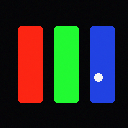0 point: (94, 73, 102, 81)
